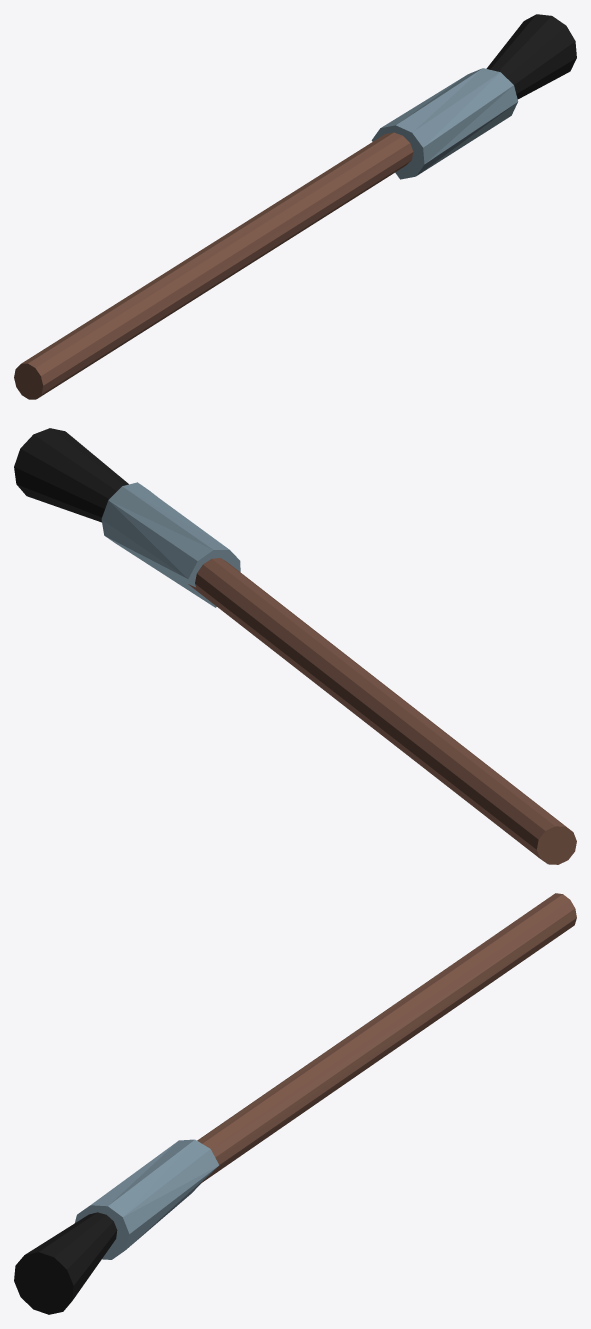
File: board_brush.glb
3 views of the same model, one above another, from view 1: azimuth 90°, elevation 25°; view 2: azimuth 150°, elevation 25°; view 3: azimuth 270°, elevation 25° (orthographic). The views are drawn at different scales.
Visible parts, largest first — view 1: board_brush; view 2: board_brush; view 3: board_brush.
Boxes of the visible parts, <box> form: board_brush: <box>14,14,576,399</box>; board_brush: <box>14,428,576,864</box>; board_brush: <box>14,893,576,1314</box>.
Bounding box in the file's own units: 0.62 × 0.0528 × 0.4028.
